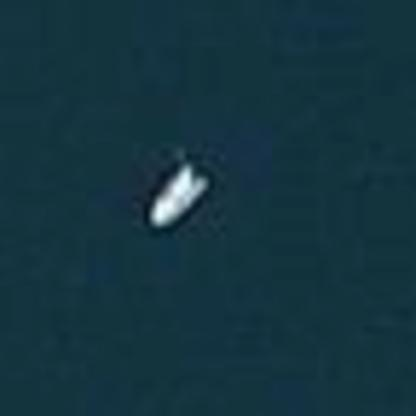ship: (137, 151, 217, 235)
